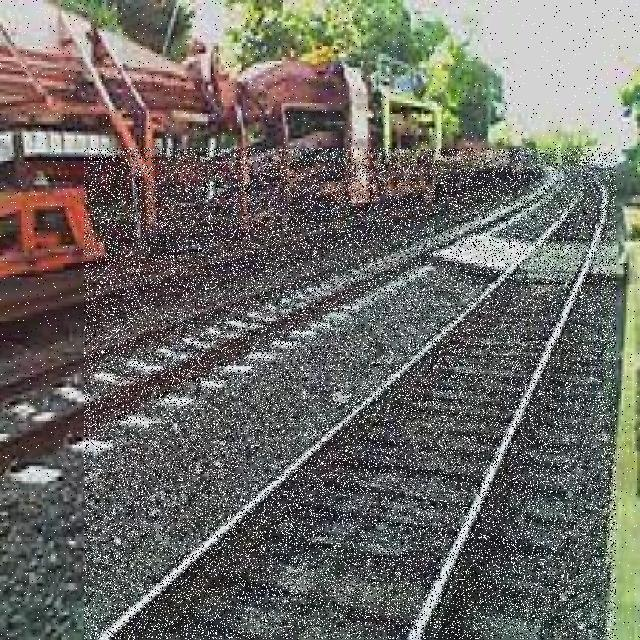rail: (85, 149, 617, 640), (4, 164, 559, 502)
